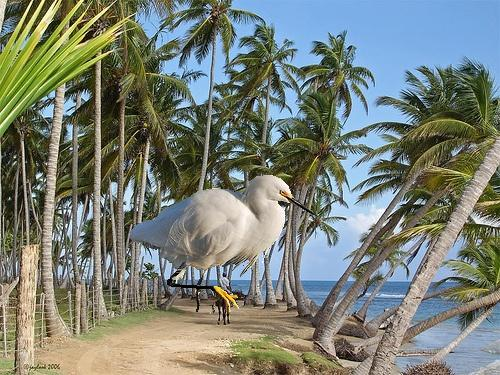tampered: (130, 176, 320, 314)
